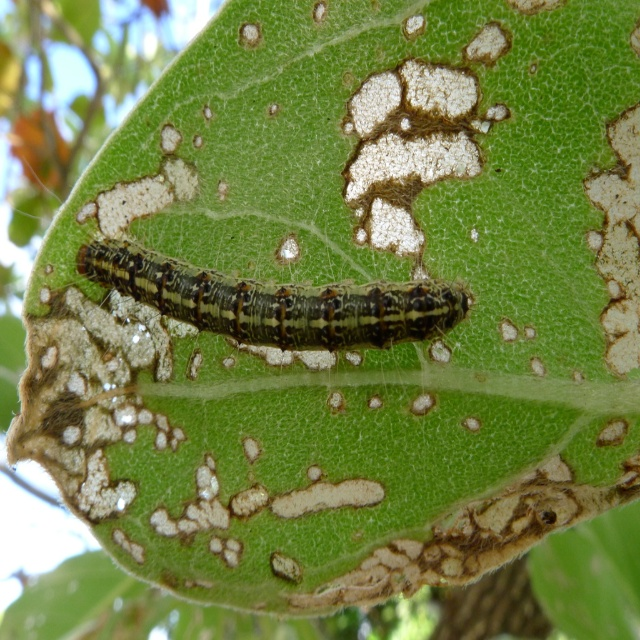Caterpillar: (6, 146, 477, 451)
